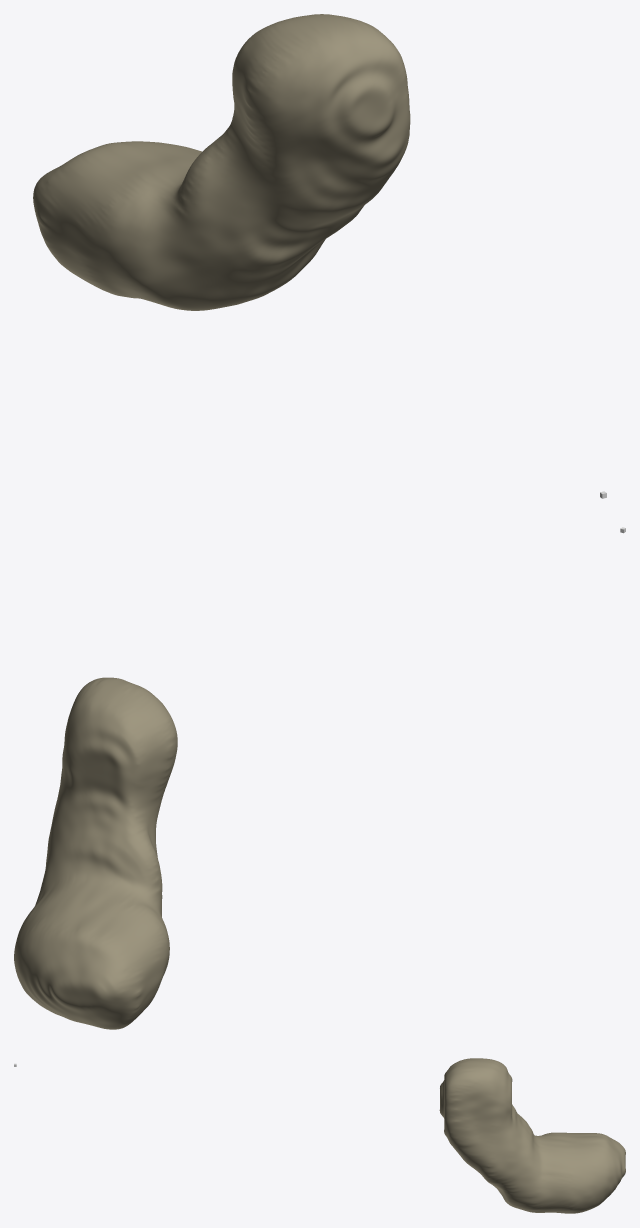
The model's file is estomago_sin_render.fbx.
3 views of the same model, one above another, from view 1: azimuth 30°, elevation 25°; view 2: azimuth 150°, elevation 25°; view 3: azimuth 270°, elevation 25° (orthographic). The views are drawn at different scales.
Visible parts, largest first — view 1: Segmentation; view 2: Segmentation; view 3: Segmentation.
Boxes of the visible parts, left/top/right/bottom form: Segmentation: left=33, top=14, right=410, bottom=310; Segmentation: left=14, top=677, right=177, bottom=1029; Segmentation: left=439, top=1058, right=625, bottom=1213.
Size of the model in its own units: 11078 by 13668 by 47564.
